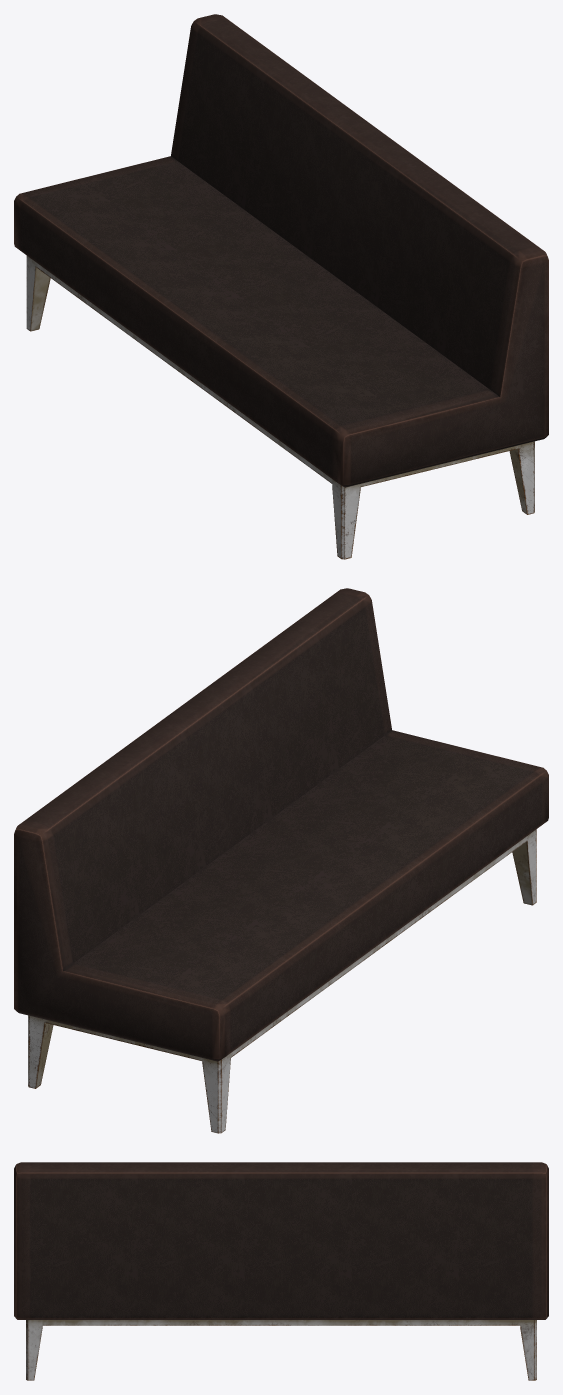
Rendered from office_sofa_waiting_room_-_4mb.glb.
3 views of the same model, one above another, from view 1: azimuth 30°, elevation 25°; view 2: azimuth 150°, elevation 25°; view 3: azimuth 270°, elevation 25° (orthographic). The views are drawn at different scales.
Parts seen in each view (by area): view 1: 01_01_0, 02_2_0; view 2: 01_01_0, 02_2_0; view 3: 01_01_0, 02_2_0.
Part boxes in pixels (x1,y1,x2,y2): 01_01_0: (14,14,548,487); 02_2_0: (26,255,534,559); 01_01_0: (14,588,548,1061); 02_2_0: (28,829,536,1133); 01_01_0: (14,1162,548,1319); 02_2_0: (26,1320,536,1380).
Size of the model in its own units: 0.932 by 1.12 by 2.55.
2 materials, 2 textured.
